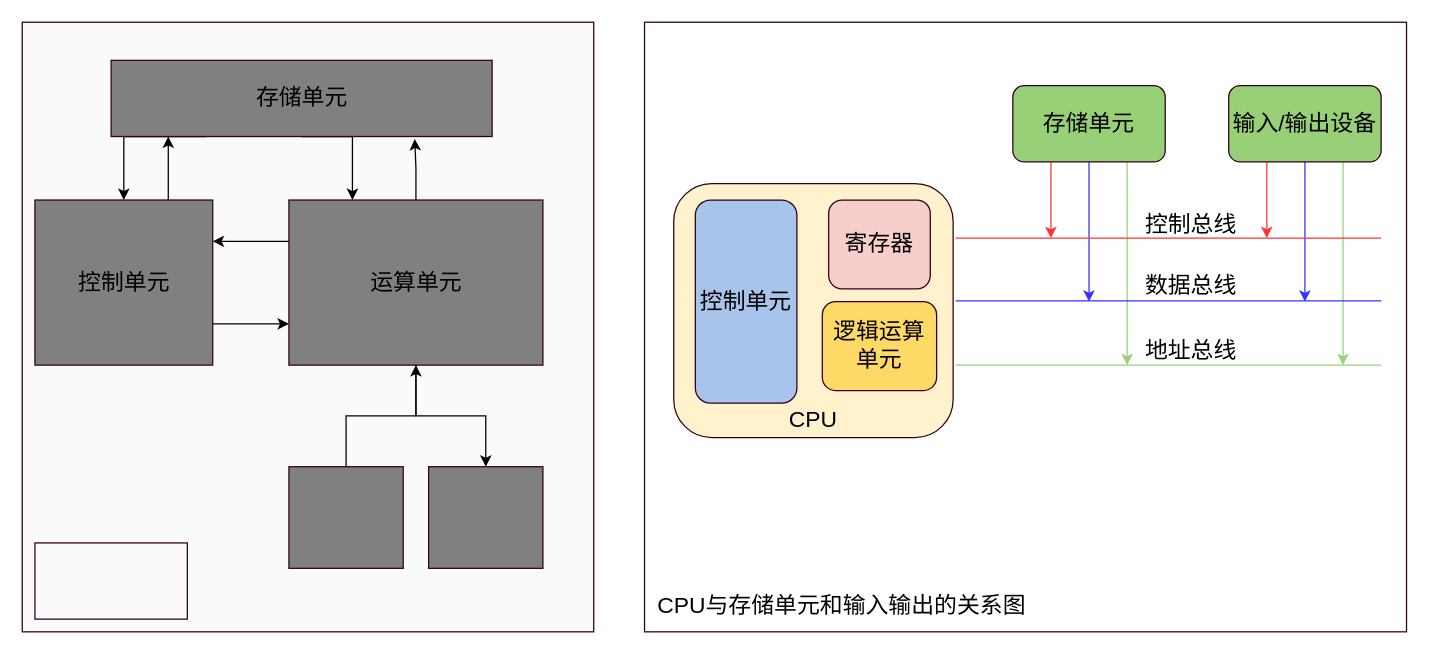
Some shapes in this 1429 by 654 pixel diagram are drawn without their labels. Here are the shapes that lost their labels. From the top down, the centre of each, then its label:
point (345, 516): 输入
point (485, 516): 输出
point (110, 580): 冯诺伊曼模型
